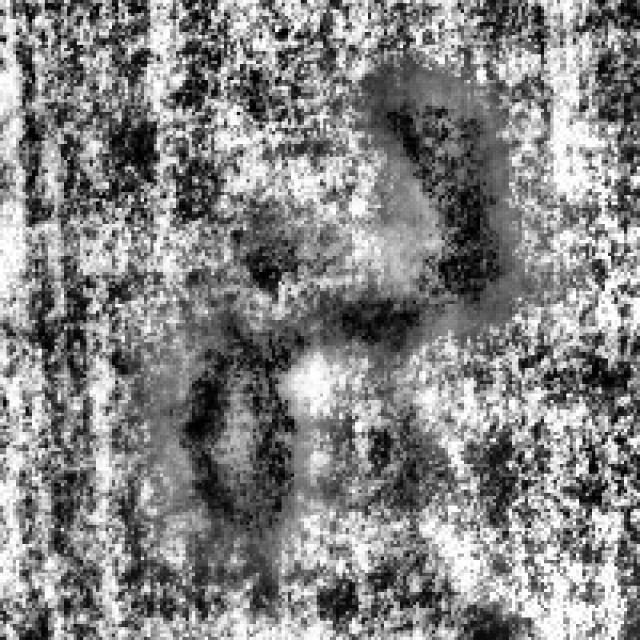Scratches: (340, 74, 502, 348), (173, 316, 301, 538)
